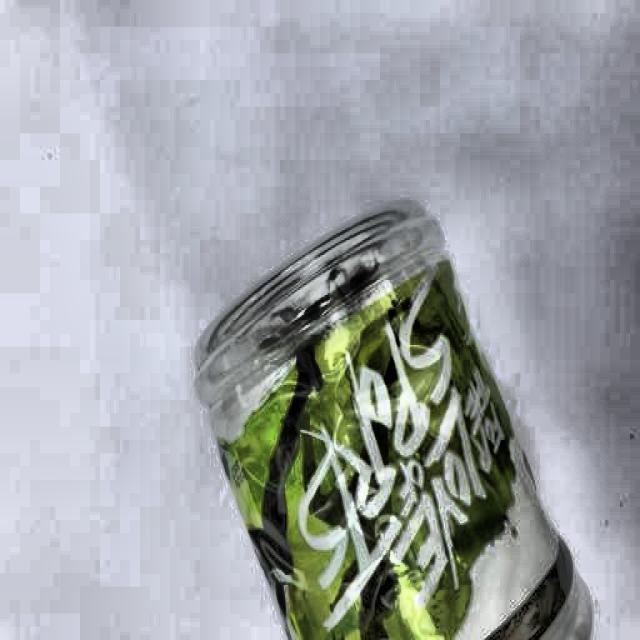plastic: (198, 205, 602, 640)
